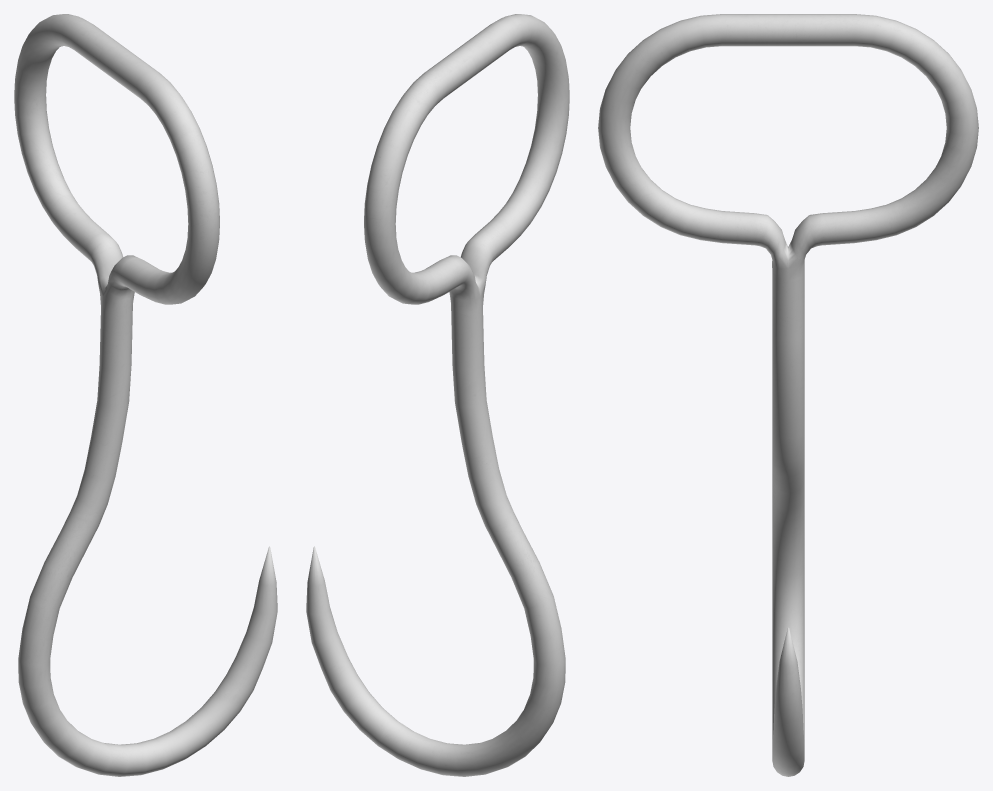
Rendered from gancho_carnicero.gltf.
3 renders of one model, left to right at view 1: azimuth 30°, elevation 25°; view 2: azimuth 150°, elevation 25°; view 3: azimuth 270°, elevation 25°, orthographic.
Parts seen in each view (by area): view 1: Meat Hook 5; view 2: Meat Hook 5; view 3: Meat Hook 5.
Boxes of the visible parts, <box> form: Meat Hook 5: <box>14,14,277,776</box>; Meat Hook 5: <box>306,14,569,776</box>; Meat Hook 5: <box>598,14,978,776</box>.
Size of the model in its own units: 0.0768 by 0.2098 by 0.0988.
Materials: 1 (1 with a texture image).
